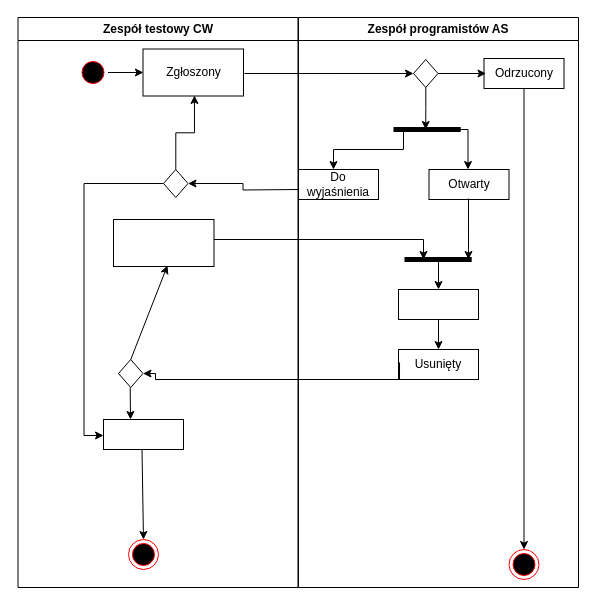
Some shapes in this 596 by 605 pixel diagram are drawn without their labels. The centre of each missing label's shape, as x and y in pixels:
"Ponownie otwarty" belongs at (x=163, y=242).
"Przydzielony" belongs at (x=438, y=304).
"Zamknięty+" belongs at (x=143, y=434).
